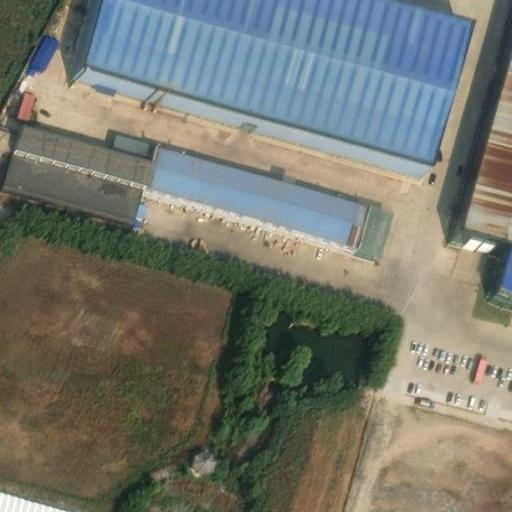building: (75, 0, 460, 163), (149, 140, 368, 238), (450, 60, 511, 251), (3, 144, 143, 217), (0, 116, 157, 181), (487, 242, 512, 312), (23, 30, 60, 76), (113, 126, 151, 150), (187, 447, 217, 475)
